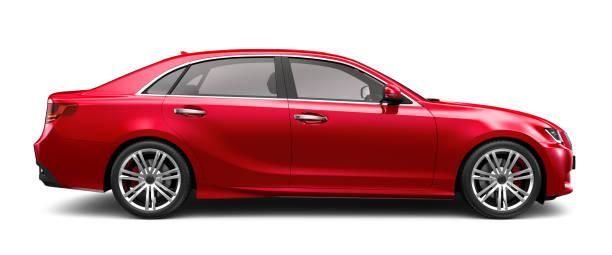Sedan: (23, 27, 597, 237)
